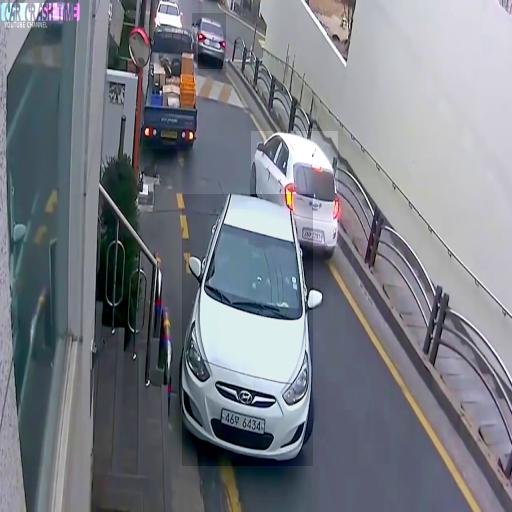小汽车: (182, 194, 313, 466), (251, 131, 338, 246), (144, 25, 198, 149), (192, 13, 226, 69)
